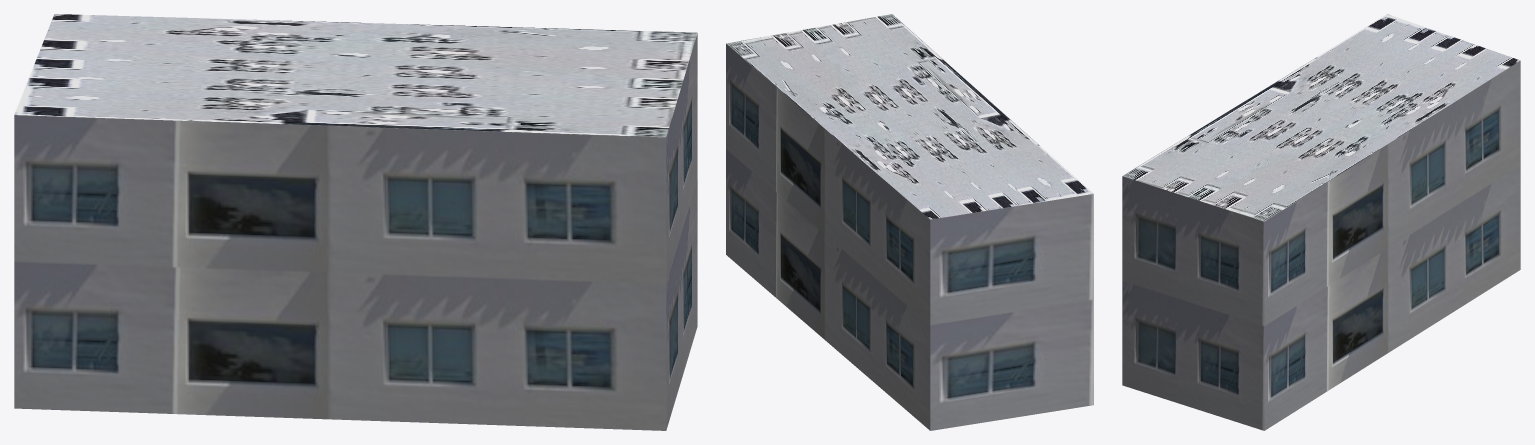
Rendered from ResTex__159.fbx.
3 views of the same model, side by side, from view 1: azimuth 30°, elevation 25°; view 2: azimuth 150°, elevation 25°; view 3: azimuth 270°, elevation 25° (orthographic). The views are drawn at different scales.
Parts seen in each view (by area): view 1: CityEngineMaterial_10_m, CityEngineMaterial_4_m; view 2: CityEngineMaterial_10_m, CityEngineMaterial_4_m; view 3: CityEngineMaterial_10_m, CityEngineMaterial_4_m.
Boxes of the visible parts, <box> form: CityEngineMaterial_10_m: <box>14,33,697,430</box>; CityEngineMaterial_4_m: <box>14,14,697,137</box>; CityEngineMaterial_10_m: <box>726,44,1093,430</box>; CityEngineMaterial_4_m: <box>726,14,1093,219</box>; CityEngineMaterial_10_m: <box>1122,61,1520,430</box>; CityEngineMaterial_4_m: <box>1122,14,1520,221</box>.
Size of the model in its own units: 12.77 by 6 by 10.36.
2 materials, 2 textured.
